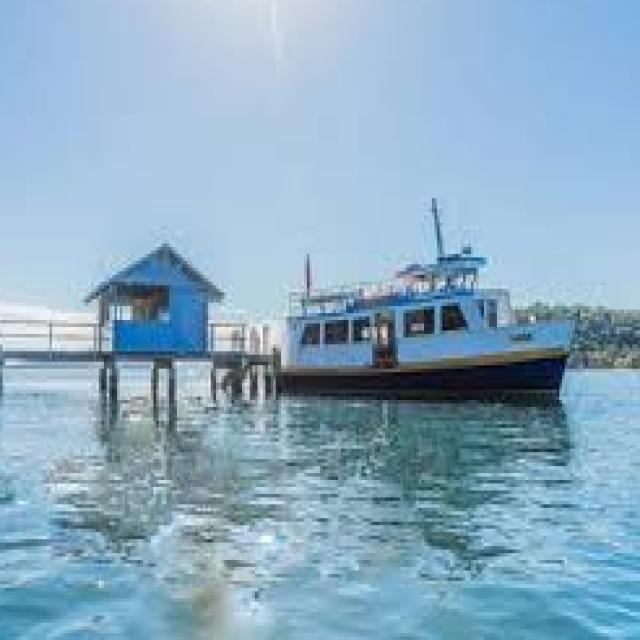houseboat: (263, 208, 607, 397)
